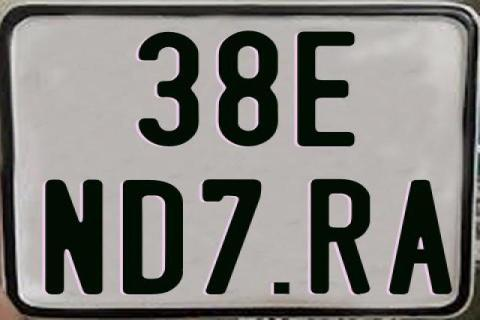0: (201, 178, 263, 298), (138, 30, 200, 148), (218, 31, 278, 151)
A: (388, 180, 452, 298)
D: (122, 178, 188, 296)
E: (297, 29, 355, 148)
N: (45, 178, 104, 298)
R: (309, 177, 368, 292)
